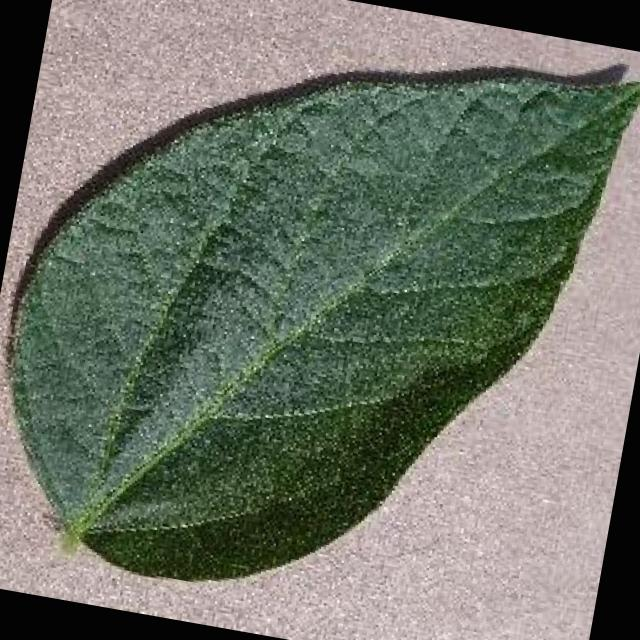healthy: (16, 76, 640, 576)
